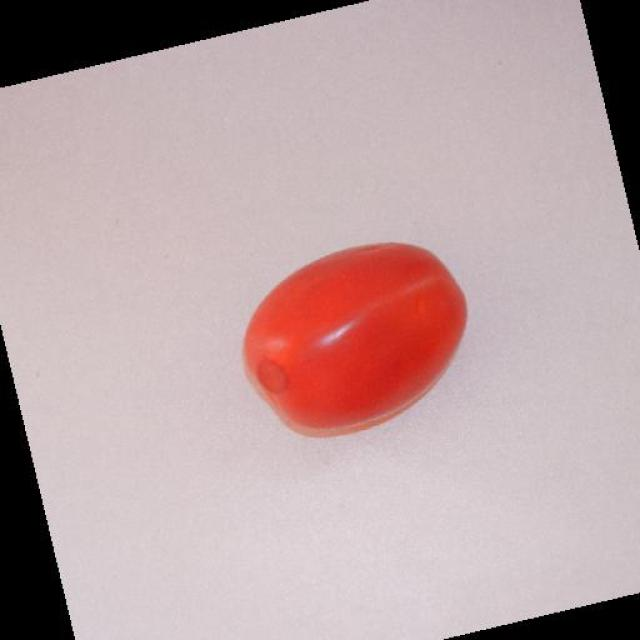Fresh_tomato: (236, 238, 478, 427)
